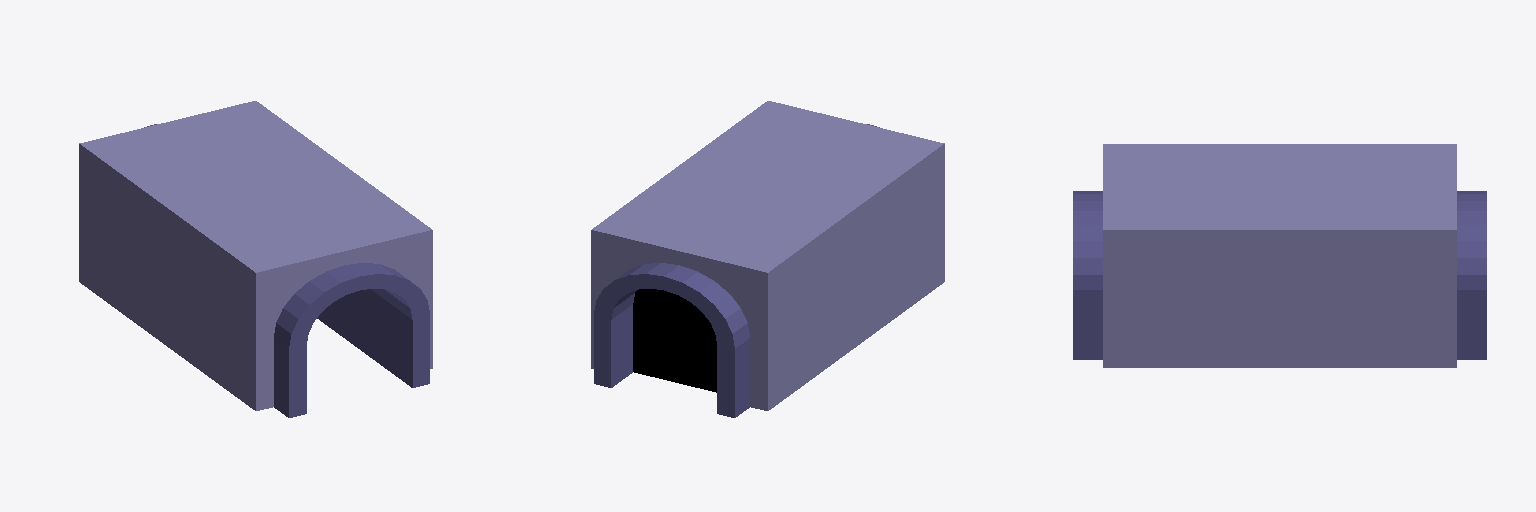
The model's file is Exit.obj.
3 renders of one model, left to right at view 1: azimuth 30°, elevation 25°; view 2: azimuth 150°, elevation 25°; view 3: azimuth 270°, elevation 25°, orthographic.
Parts seen in each view (by area): view 1: wall_gate; view 2: wall_gate, hut_halfRoof; view 3: wall_gate.
Boxes of the visible parts, box(x1,y1,x2,y2) form: wall_gate: box(79, 101, 432, 417); wall_gate: box(591, 101, 944, 417); hut_halfRoof: box(633, 289, 716, 392); wall_gate: box(1073, 144, 1486, 367).
Bounding box in the file's own units: 2 × 1.5 × 4.06.